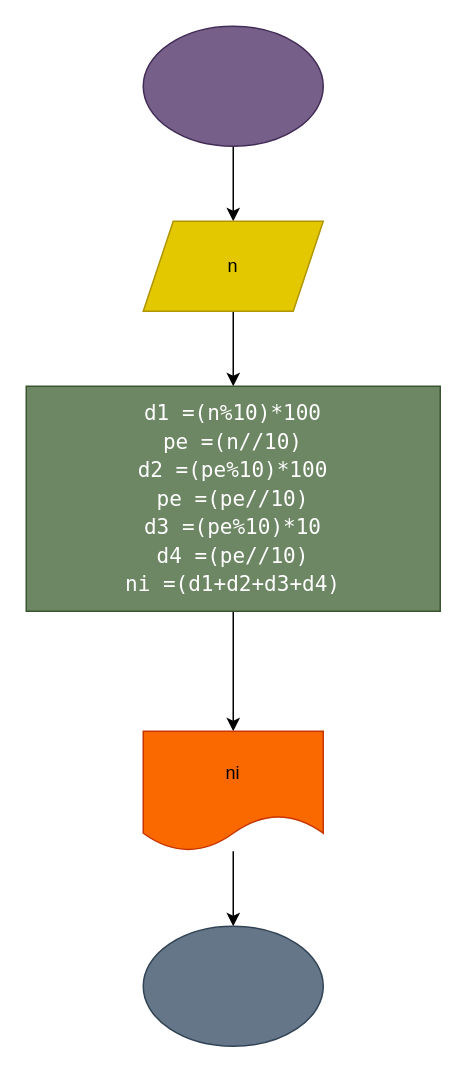
Image size: 467x1073. Some labels were removed from this diagram. The centre of each missing label's shape, as x and y in pixels:
"FIN" goes at [232,985].
"INICIO" goes at [232,85].
